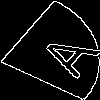A: (25, 25, 100, 79)
